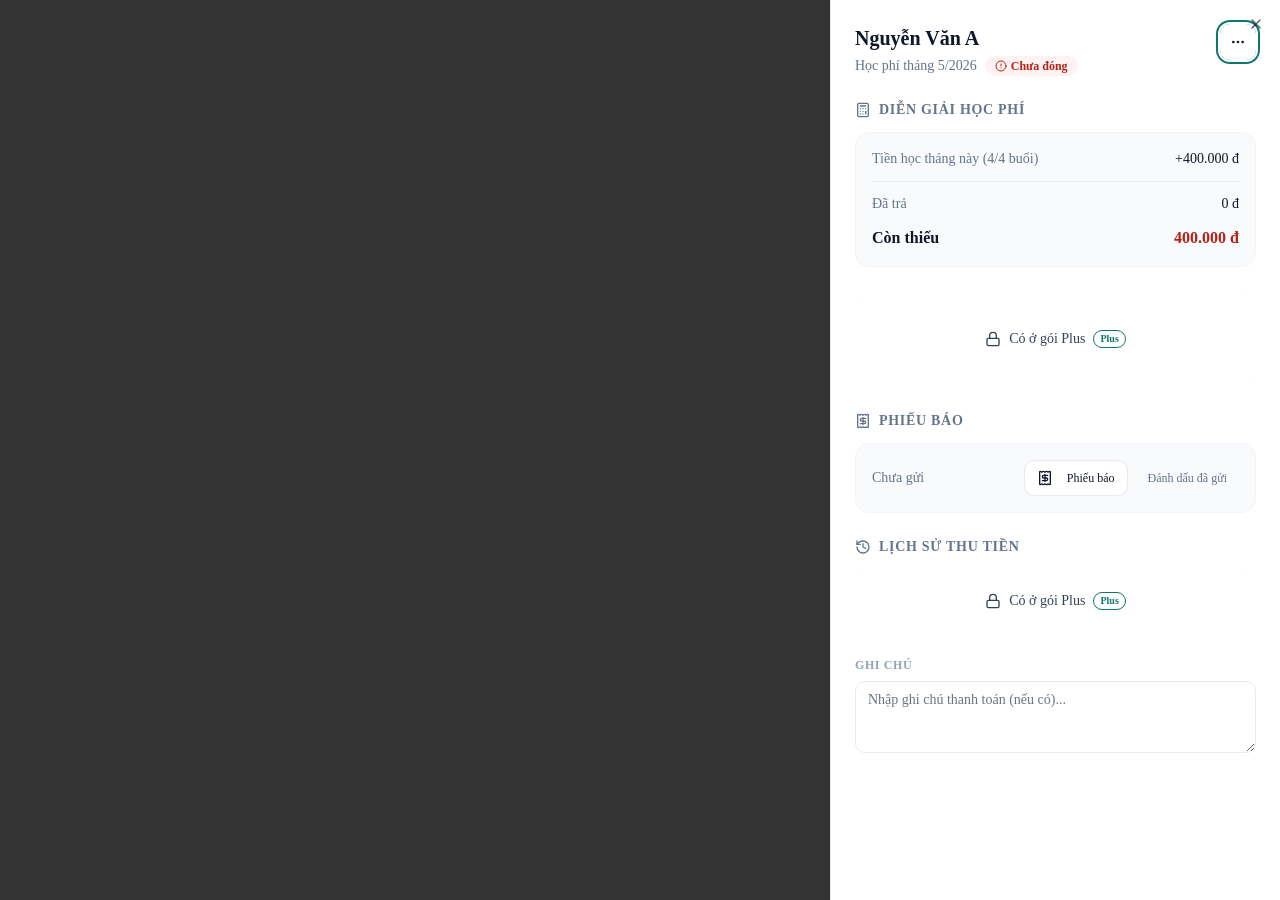
Test: TuitionDetailSheet - Standard (paymentsLocked) › vẫn xem phần tính tiền; lịch sử thu + tất toán khóa; bấm Phiếu báo mở popup Plus; không gọi payment.list
Expected: the element with test id "payments-locked" is shown, [855,291,1256,387]
Click the button "Phiếu báo": [1076, 478] box [1024,460,1128,496]
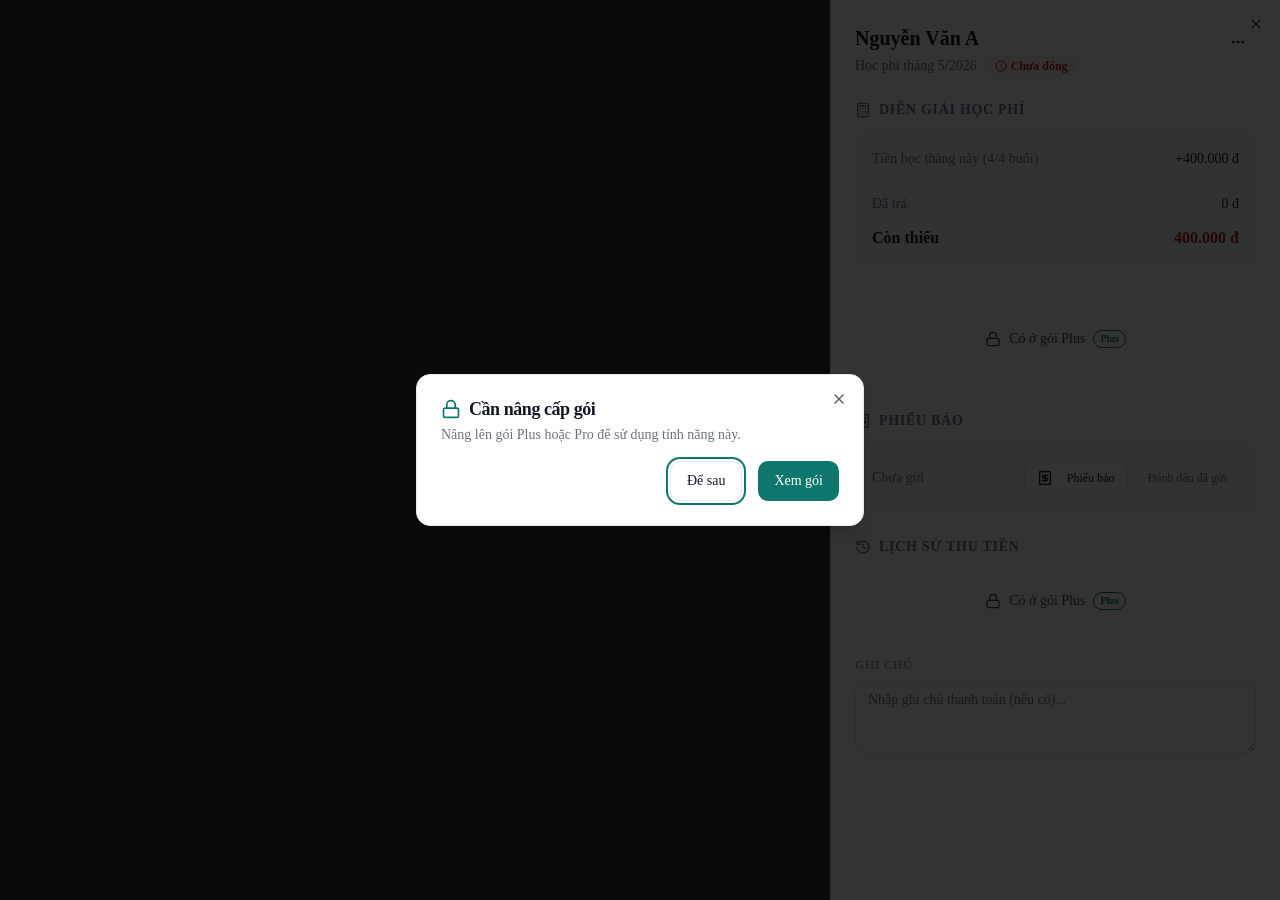
Expected: the text "Nâng lên gói Plus hoặc Pro để sử dụng tính năng này." is shown, [441,427,741,442]
